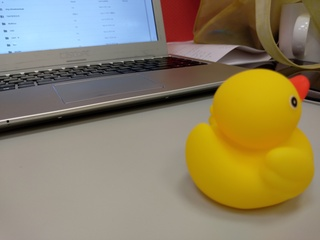duck: (170, 61, 320, 215)
